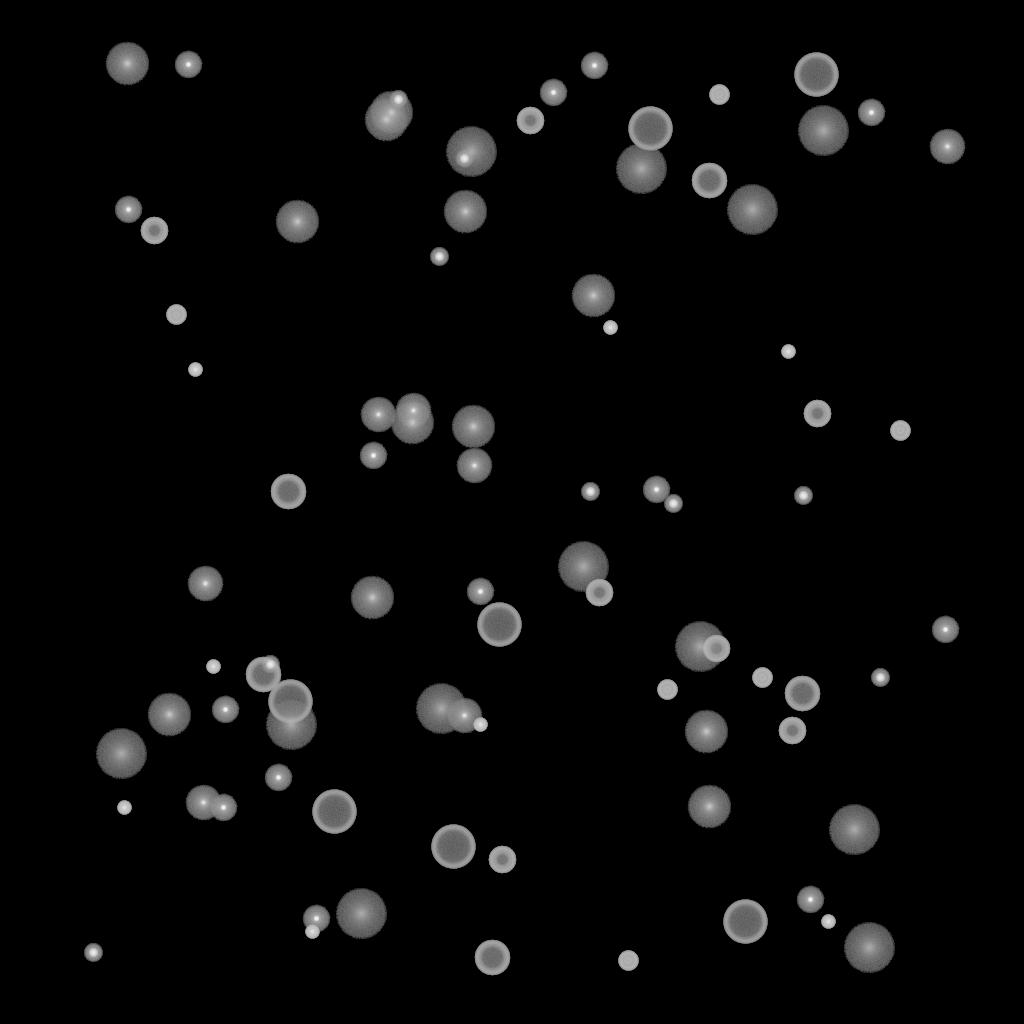depth:-10: (539, 79, 567, 107), (302, 905, 330, 933), (209, 794, 237, 822), (857, 99, 885, 127), (466, 578, 494, 606), (796, 886, 824, 914), (931, 616, 959, 644), (211, 696, 239, 724), (580, 52, 608, 80), (642, 476, 670, 504), (264, 764, 292, 792), (359, 442, 387, 470), (114, 196, 142, 224), (174, 51, 202, 79)
depth:-20: (664, 495, 682, 513), (871, 669, 889, 687), (261, 656, 279, 674), (455, 150, 473, 168), (794, 487, 812, 505), (389, 91, 407, 109), (84, 944, 102, 962), (581, 483, 599, 501), (430, 248, 448, 266)
depth:-30: (188, 363, 202, 377), (117, 801, 131, 815), (603, 321, 617, 335), (206, 660, 220, 674), (781, 345, 795, 359), (473, 718, 487, 732), (305, 925, 319, 939), (821, 915, 835, 929)
depth:-40: (166, 305, 186, 325), (657, 680, 677, 700), (618, 951, 638, 971), (709, 85, 729, 105), (752, 668, 772, 688), (890, 421, 910, 441)
depth:-50: (516, 107, 544, 135), (803, 400, 831, 428), (778, 717, 806, 745), (585, 579, 613, 607), (140, 217, 168, 245), (488, 846, 516, 874), (702, 635, 730, 663)
depth:-60: (245, 657, 281, 693), (691, 163, 727, 199), (474, 940, 510, 976), (784, 676, 820, 712), (270, 474, 306, 510)
depth:-70: (723, 900, 767, 944), (312, 790, 356, 834), (268, 680, 312, 724), (431, 825, 475, 869), (477, 603, 521, 647), (794, 53, 838, 97), (628, 107, 672, 151)
depth:0: (185, 785, 221, 821), (360, 397, 396, 433), (456, 448, 492, 484), (929, 129, 965, 165), (187, 566, 223, 602), (395, 393, 431, 429), (446, 698, 482, 734)
depth:10: (687, 785, 731, 829), (684, 710, 728, 754), (571, 274, 615, 318), (105, 42, 149, 86), (147, 693, 191, 737), (350, 576, 394, 620), (390, 401, 434, 445), (443, 190, 487, 234), (369, 91, 413, 135), (364, 98, 408, 142), (275, 200, 319, 244), (451, 405, 495, 449)
depth:20: (843, 923, 895, 973), (95, 729, 147, 779), (265, 700, 317, 750), (415, 684, 467, 734), (674, 622, 726, 672), (797, 106, 849, 156), (557, 542, 609, 592), (615, 144, 667, 194), (726, 185, 778, 235), (828, 805, 880, 855), (335, 889, 387, 939), (445, 127, 497, 177)
